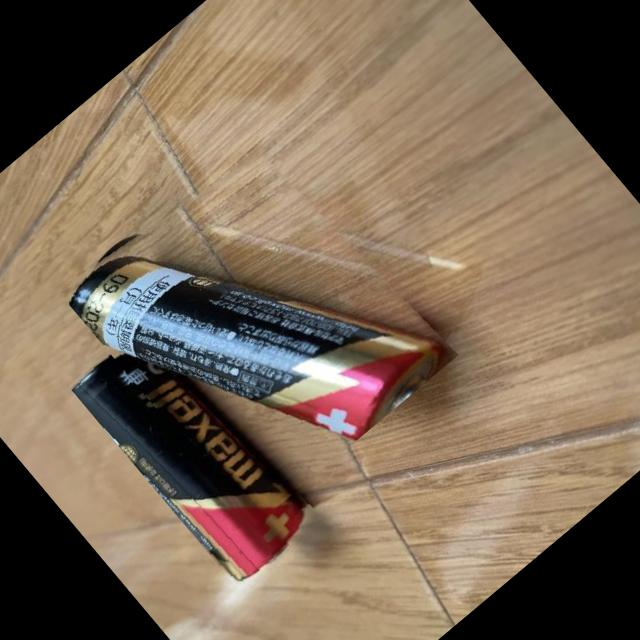Hazard: (54, 114, 460, 524), (68, 314, 328, 594)
